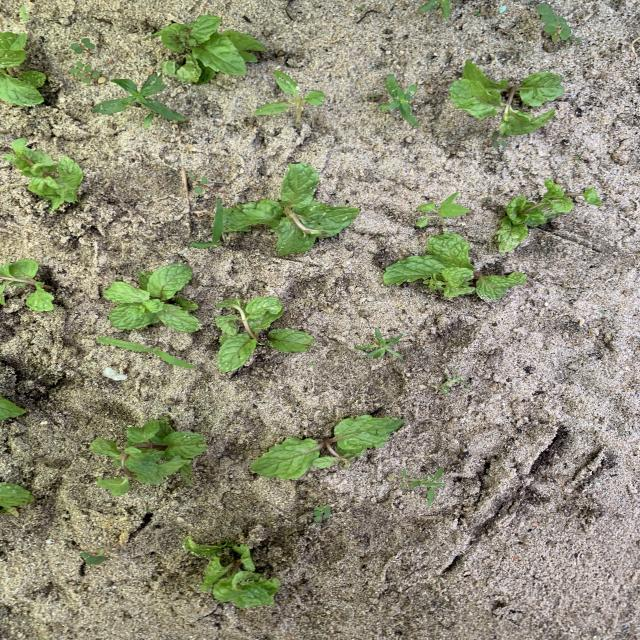crop: (225, 163, 360, 255), (251, 416, 404, 479), (382, 233, 526, 299), (90, 418, 206, 494), (450, 61, 563, 137), (150, 16, 265, 83), (497, 179, 601, 252), (216, 297, 314, 370), (184, 537, 280, 607), (104, 264, 199, 331), (5, 139, 83, 211), (1, 33, 46, 105), (1, 259, 54, 311), (1, 482, 33, 514), (1, 397, 26, 419)
weed: (96, 76, 186, 126), (255, 71, 323, 126), (97, 337, 194, 368), (415, 192, 470, 232), (381, 75, 418, 126), (189, 200, 224, 249), (537, 4, 580, 43), (355, 329, 403, 359), (410, 468, 444, 506), (69, 62, 103, 83), (430, 372, 462, 394), (419, 1, 459, 18), (80, 547, 114, 564), (69, 39, 95, 53), (190, 174, 207, 193), (313, 505, 331, 522), (488, 131, 507, 147), (307, 362, 315, 367)
